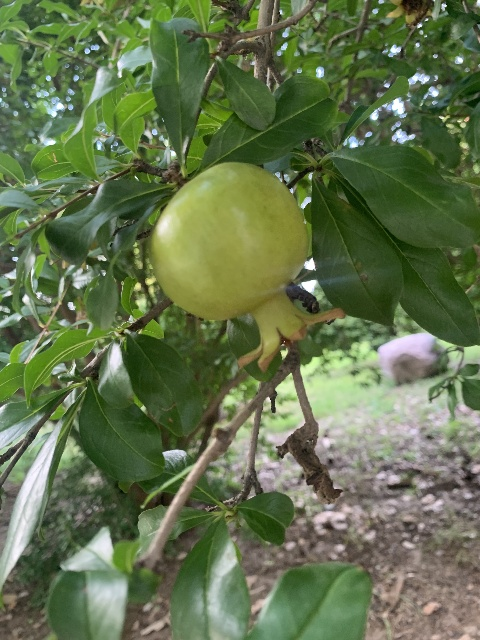mid-growth: (147, 161, 345, 374)
